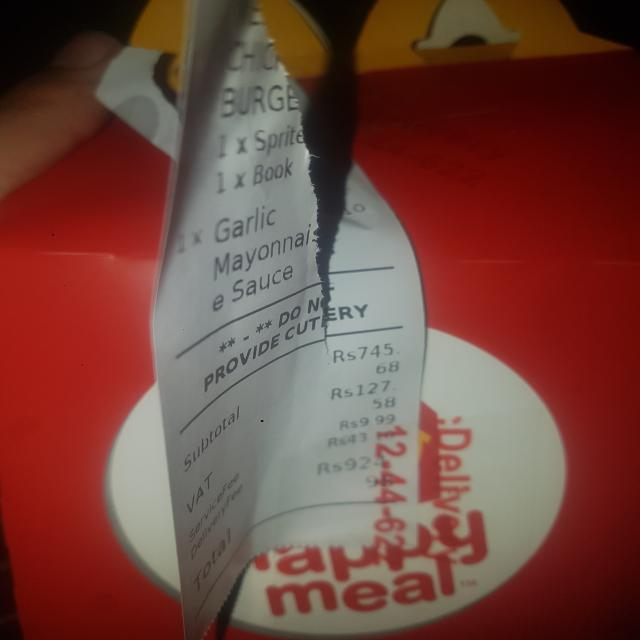electronic: (3, 1, 637, 639), (149, 1, 427, 638)
